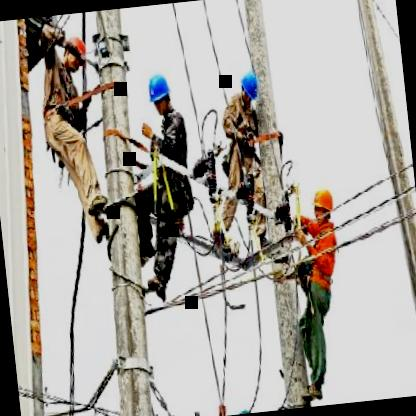helmet: (309, 182, 338, 232), (145, 70, 174, 120), (60, 29, 89, 74), (237, 68, 262, 106)
